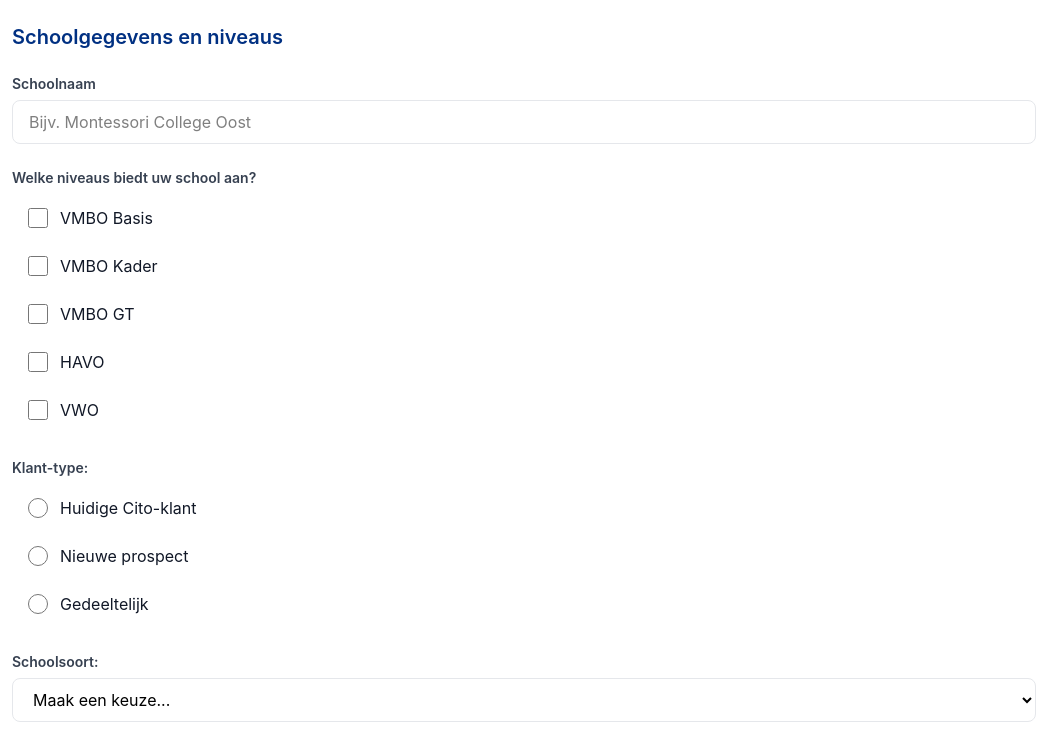
Scenario: WizardStep1 - Niveaus › school name is required (minimum 2 characters)
Click the checkbox labelled "HAVO" at (38, 362), box [28,352,48,372]
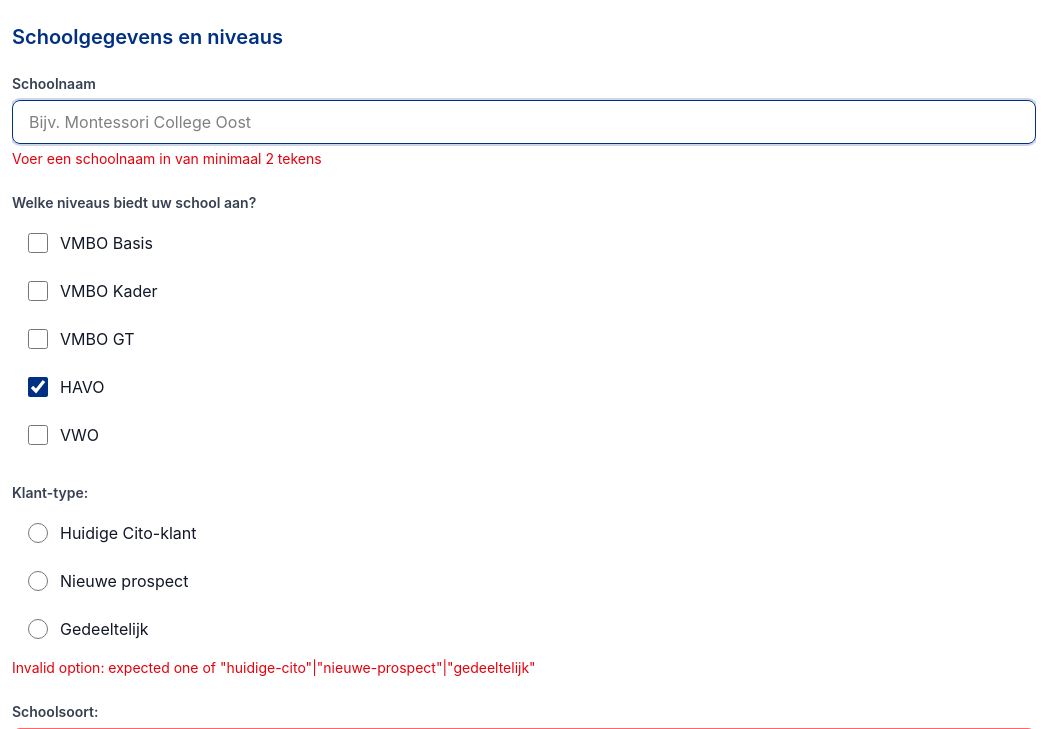
Result: the text "Voer een schoolnaam in van minimaal 2 tekens" is shown at [12,150,322,167]
